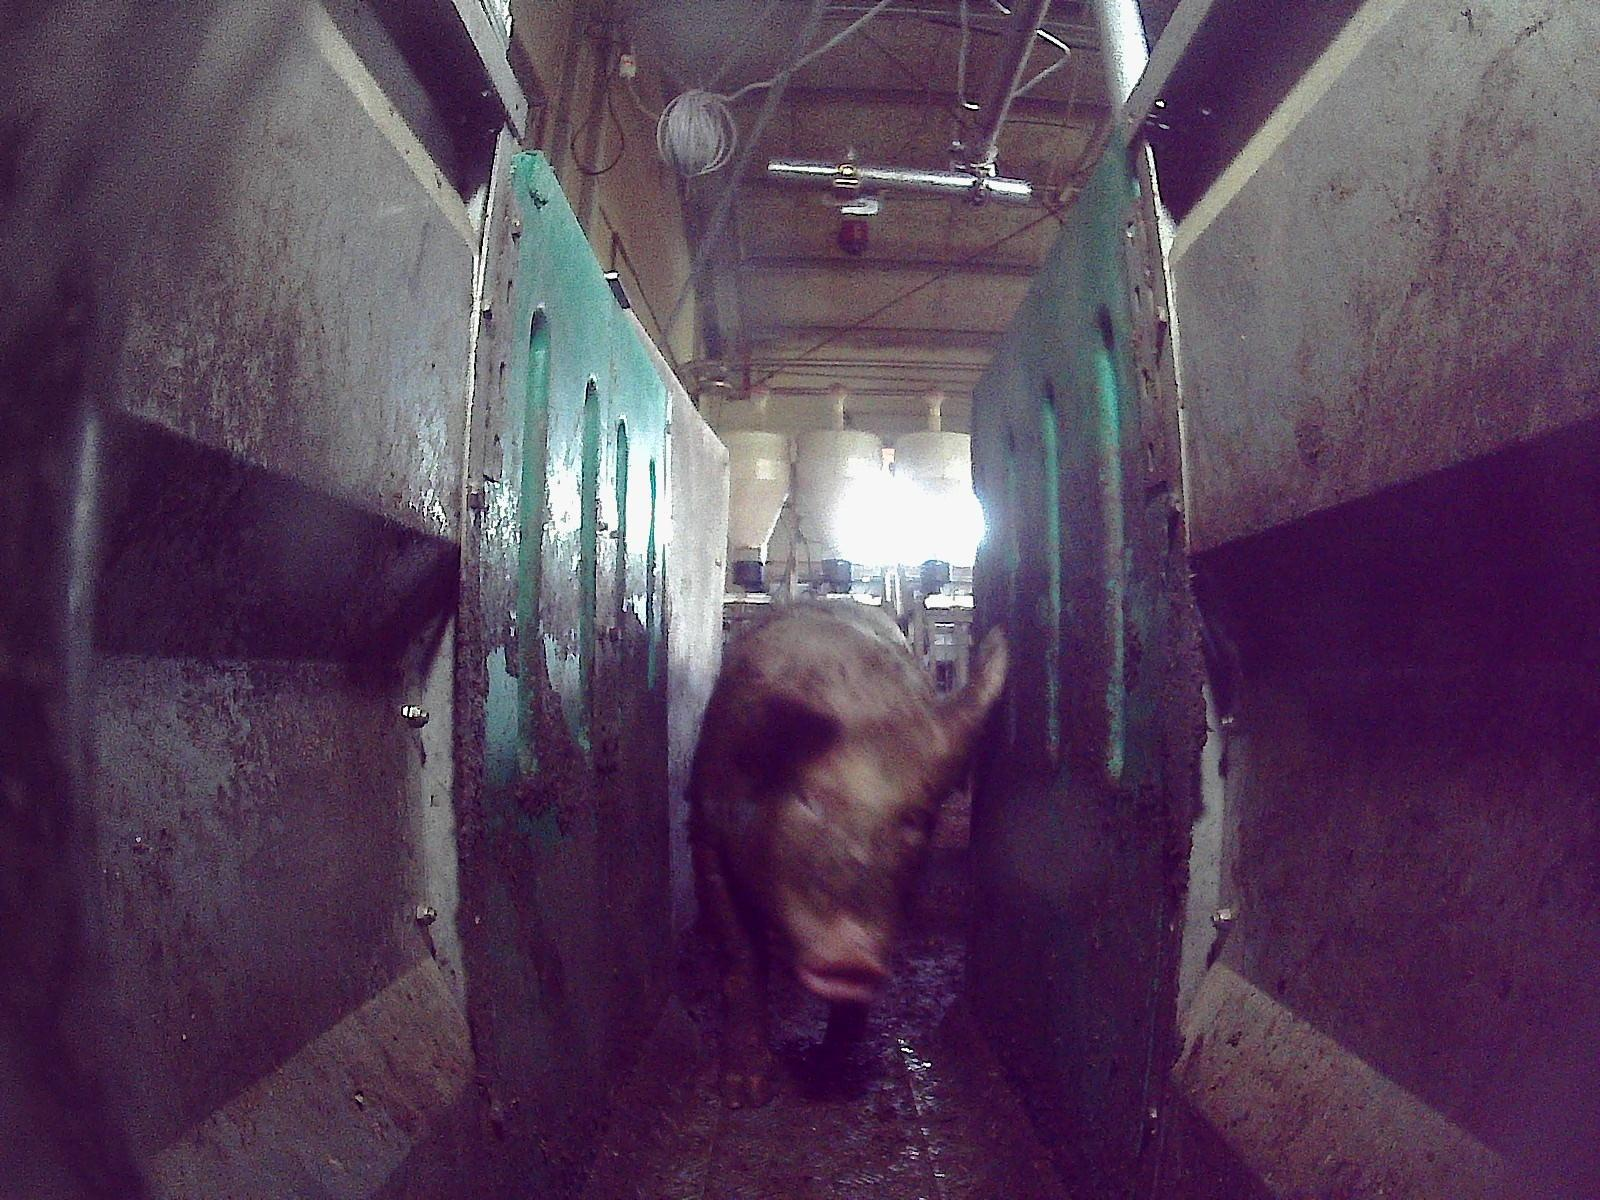Face: (737, 725, 934, 1003)
